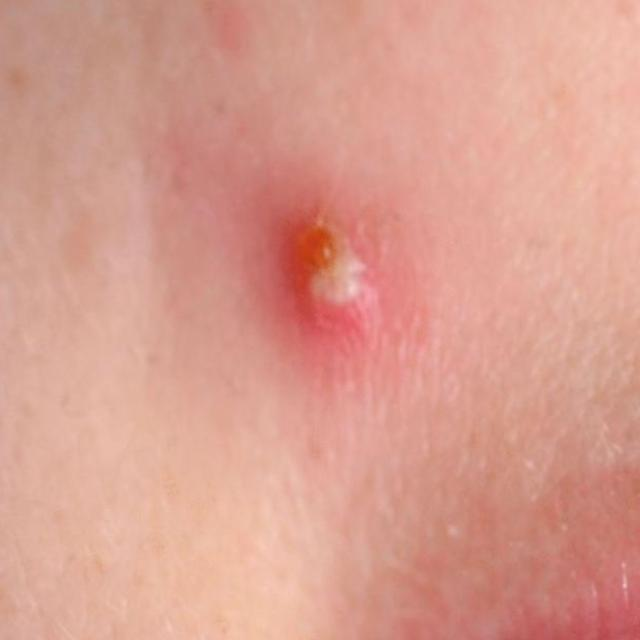pustule: (262, 156, 426, 365)
